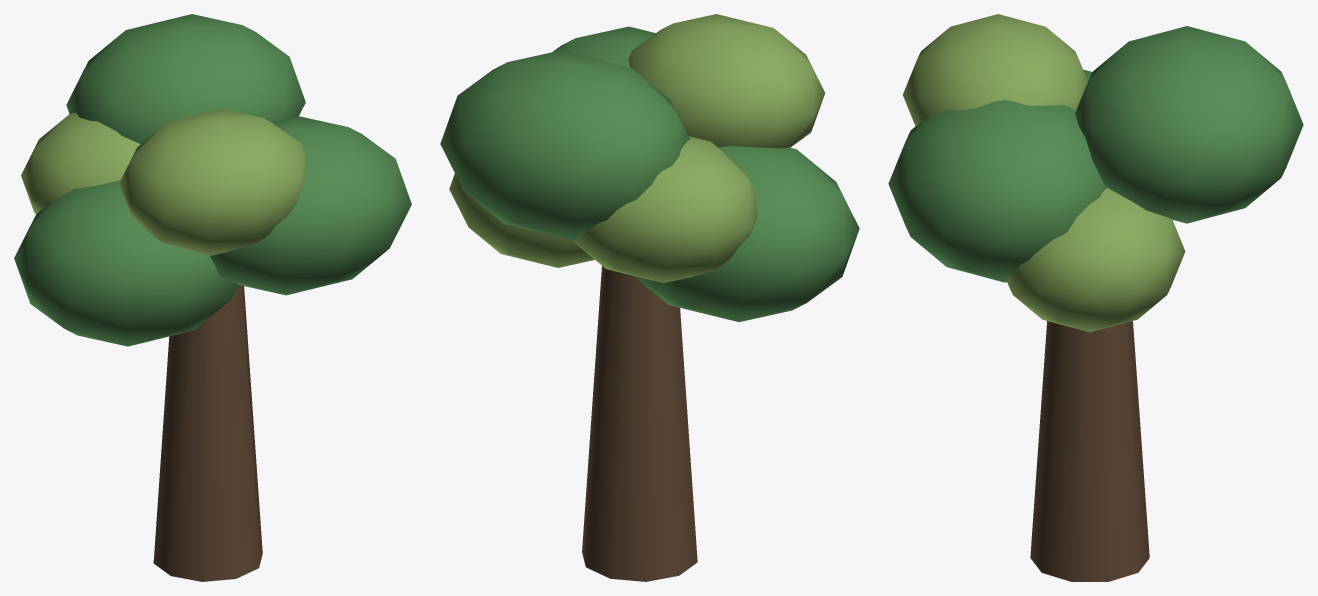
The model's file is ancient_oak_cluster.glb.
3 views of the same model, side by side, from view 1: azimuth 30°, elevation 25°; view 2: azimuth 150°, elevation 25°; view 3: azimuth 270°, elevation 25° (orthographic). The views are drawn at different scales.
Visible parts, largest first — view 1: trunk, crown_3, crown_2, crown_5, crown_1, crown_4; view 2: crown_5, trunk, crown_3, crown_2, crown_4, crown_0, crown_1; view 3: crown_5, crown_1, trunk, crown_0, crown_2.
Boxes of the visible parts, x1,y1,x2,y2 form: trunk: (153, 285, 262, 581); crown_3: (14, 180, 238, 346); crown_2: (119, 109, 306, 255); crown_5: (66, 14, 305, 143); crown_1: (210, 116, 411, 295); crown_4: (21, 113, 140, 213); crown_5: (440, 50, 689, 240); trunk: (582, 266, 697, 581); crown_3: (634, 146, 859, 321); crown_2: (628, 14, 824, 148); crown_4: (573, 136, 757, 282); crown_0: (449, 173, 594, 267); crown_1: (552, 26, 655, 66); crown_5: (1075, 26, 1303, 223); crown_1: (888, 100, 1106, 282); trunk: (1030, 321, 1149, 581); crown_0: (1006, 188, 1185, 332); crown_2: (903, 14, 1087, 126).
Size of what is drawn, in the model's own units: 4.59 by 6.03 by 4.31.
